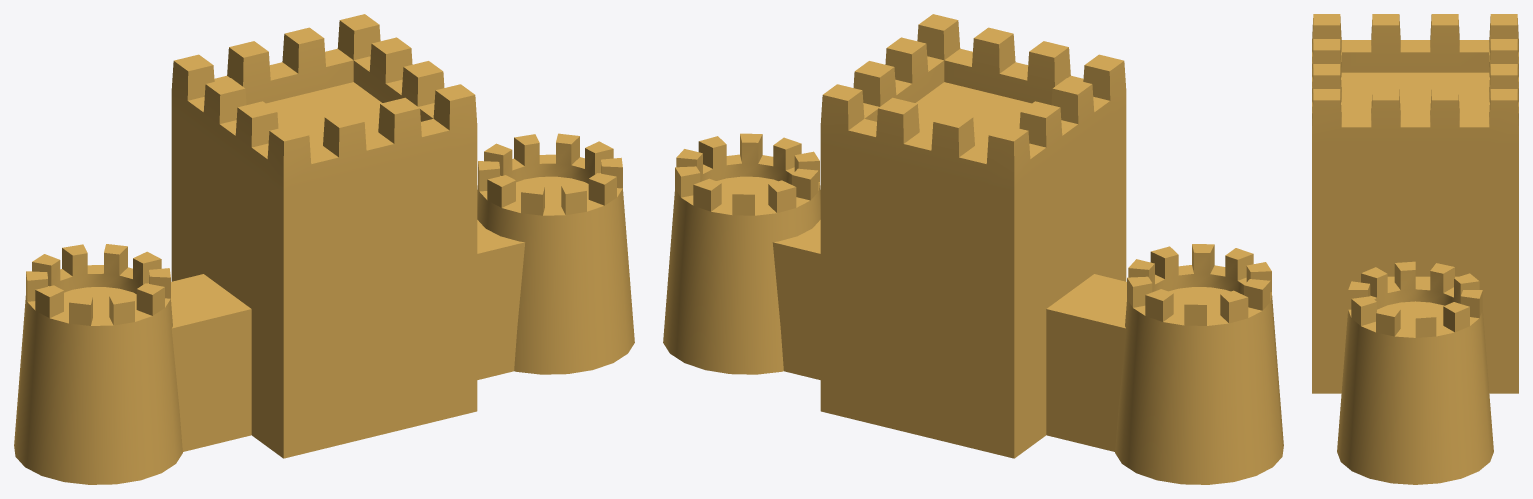
Rendered from kula.fbx.
3 views of the same model, side by side, from view 1: azimuth 30°, elevation 25°; view 2: azimuth 150°, elevation 25°; view 3: azimuth 270°, elevation 25° (orthographic). The views are drawn at different scales.
Parts seen in each view (by area): view 1: Dvorac; view 2: Dvorac; view 3: Dvorac.
Part boxes in pixels (x1=…): Dvorac: x1=14, y1=14, x2=634, y2=484; Dvorac: x1=663, y1=14, x2=1283, y2=484; Dvorac: x1=1312, y1=14, x2=1518, y2=484.
Bounding box in the file's own units: 135 × 67.92 × 43.5.
